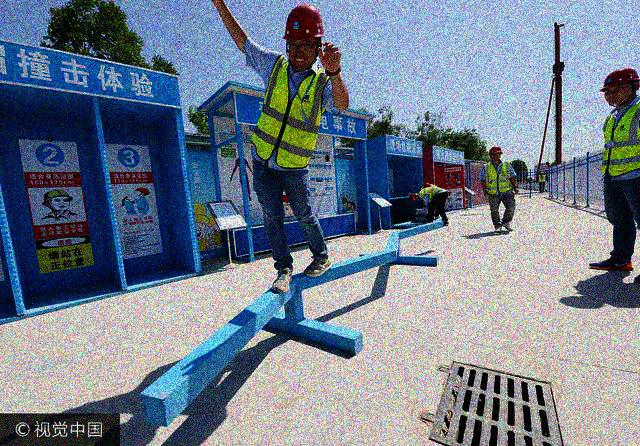helmet: (281, 3, 326, 68), (599, 66, 639, 106), (488, 144, 503, 161)
